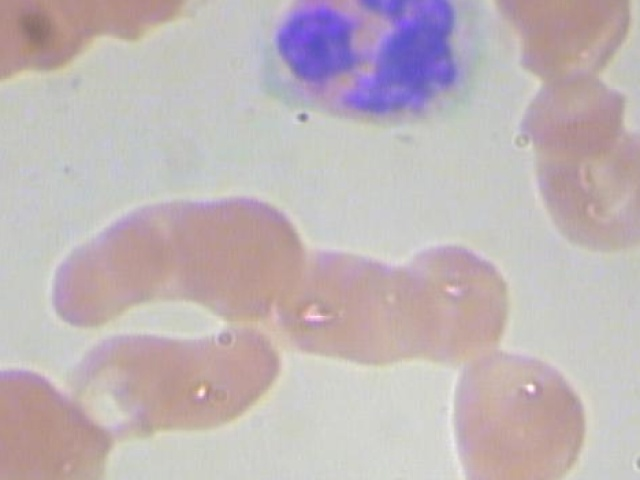RBC: (432, 344, 608, 480), (373, 237, 519, 380), (521, 109, 640, 260), (325, 238, 446, 370), (46, 217, 170, 330)
WBC: (260, 0, 497, 121)
